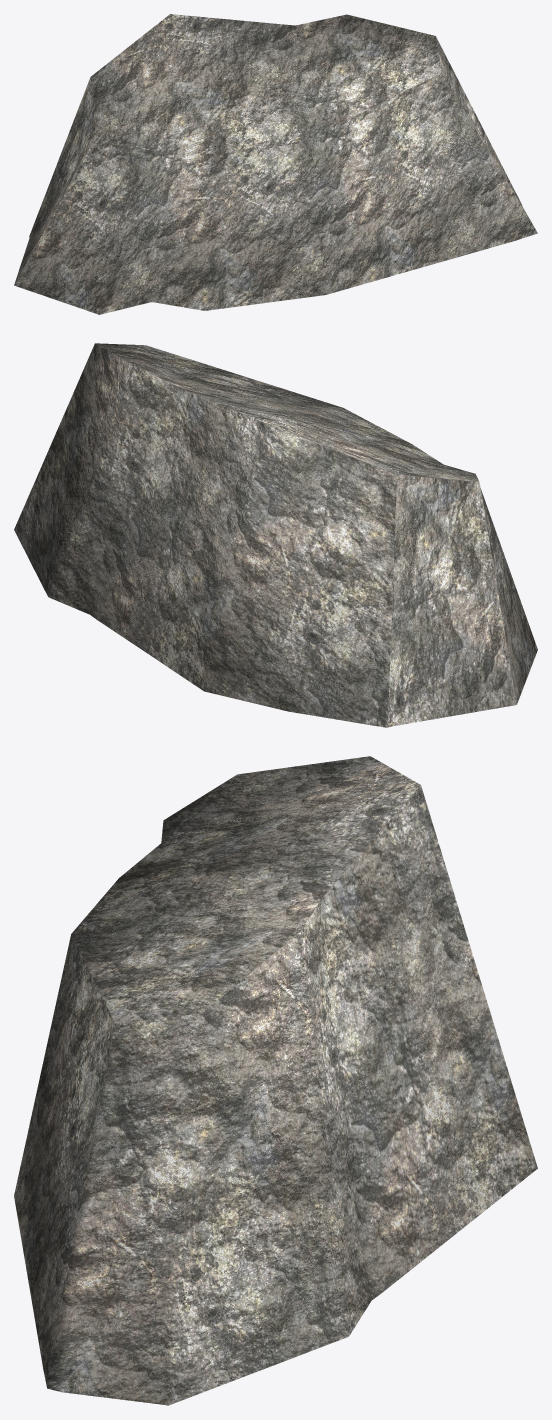
The model's file is rock_2.fbx.
The picture shows the model from 3 angles, top to bottom: view 1: azimuth 30°, elevation 25°; view 2: azimuth 150°, elevation 25°; view 3: azimuth 270°, elevation 25°; orthographic projection. The views are drawn at different scales.
Parts seen in each view (by area): view 1: Model; view 2: Model; view 3: Model.
Part boxes in pixels (x1,y1,x2,y2): Model: (14, 14, 537, 314); Model: (14, 343, 537, 727); Model: (14, 756, 537, 1405).
Size of the model in its own units: 173 by 74.32 by 94.35.
